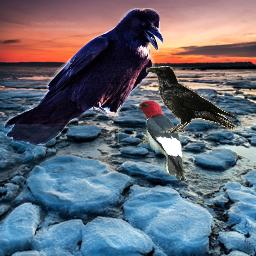Crow: (4, 8, 163, 145), (146, 66, 236, 133)
Woodpecker: (127, 100, 189, 181)
